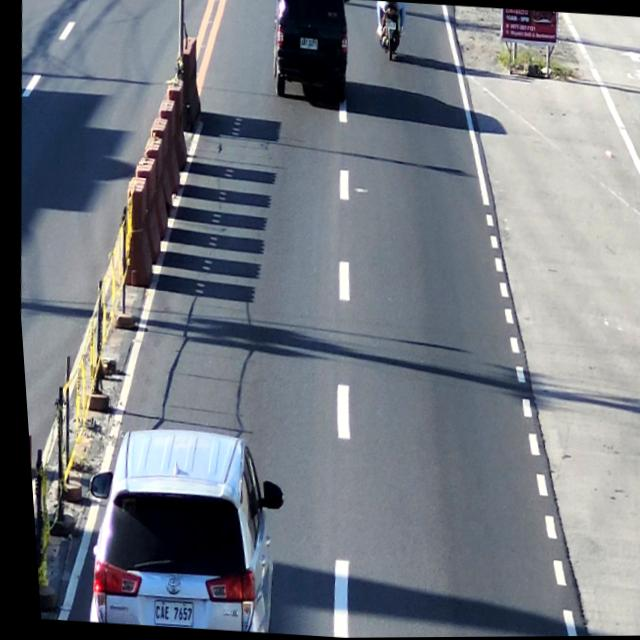Car: (82, 429, 265, 633), (262, 0, 351, 99)
License-Plate: (141, 592, 187, 628), (296, 35, 319, 52), (382, 19, 398, 30)
Motorcycle: (374, 1, 406, 65)
